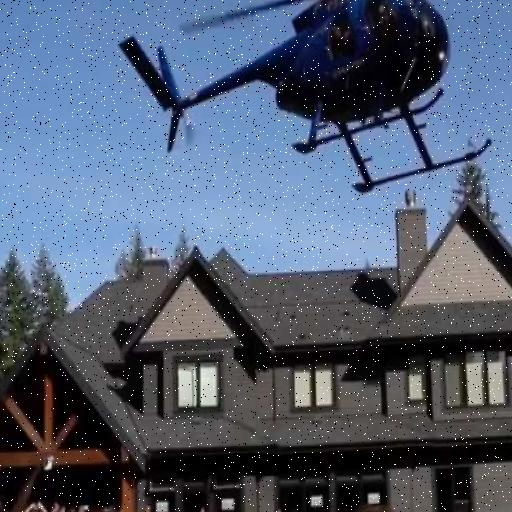helicopter: (110, 1, 512, 201)
